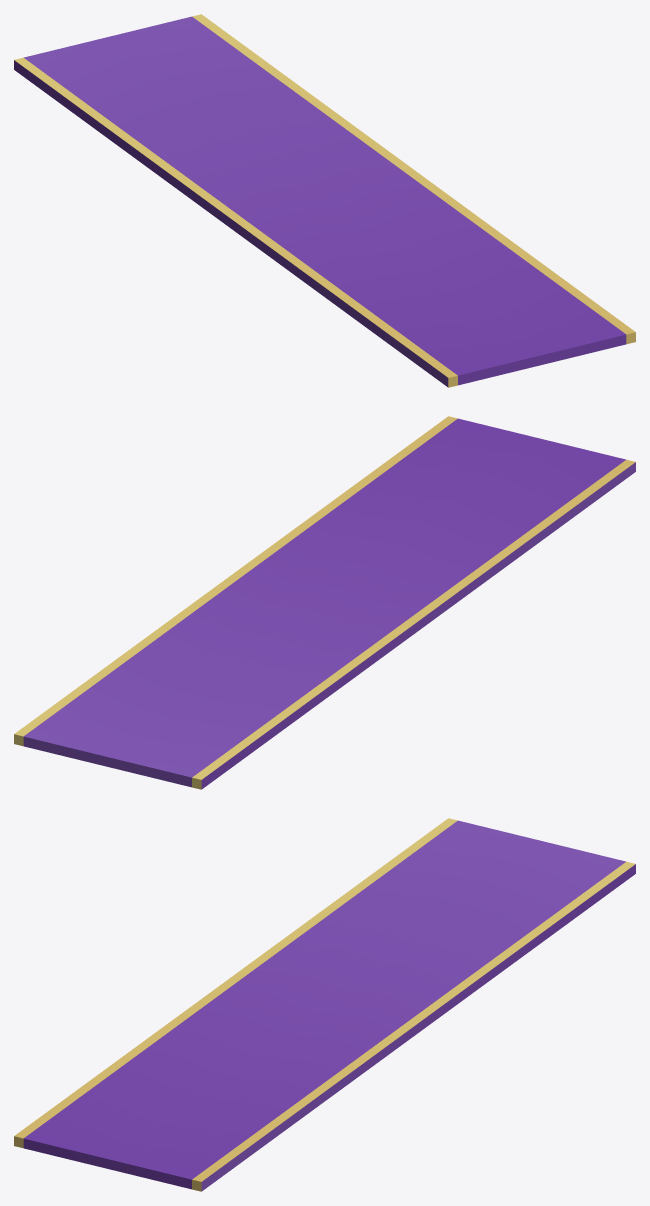
The model's file is ENV_Track_Straight.fbx.
3 renders of one model, top to bottom at view 1: azimuth 30°, elevation 25°; view 2: azimuth 150°, elevation 25°; view 3: azimuth 330°, elevation 25°, orthographic.
Visible parts, largest first — view 1: ENV_Track_Straight; view 2: ENV_Track_Straight; view 3: ENV_Track_Straight.
Part boxes in pixels (bbox=[...]): ENV_Track_Straight: bbox=[14, 14, 635, 387]; ENV_Track_Straight: bbox=[14, 416, 635, 789]; ENV_Track_Straight: bbox=[14, 818, 635, 1191].
Bounding box in the file's own units: 9.97 × 0.5 × 40.
